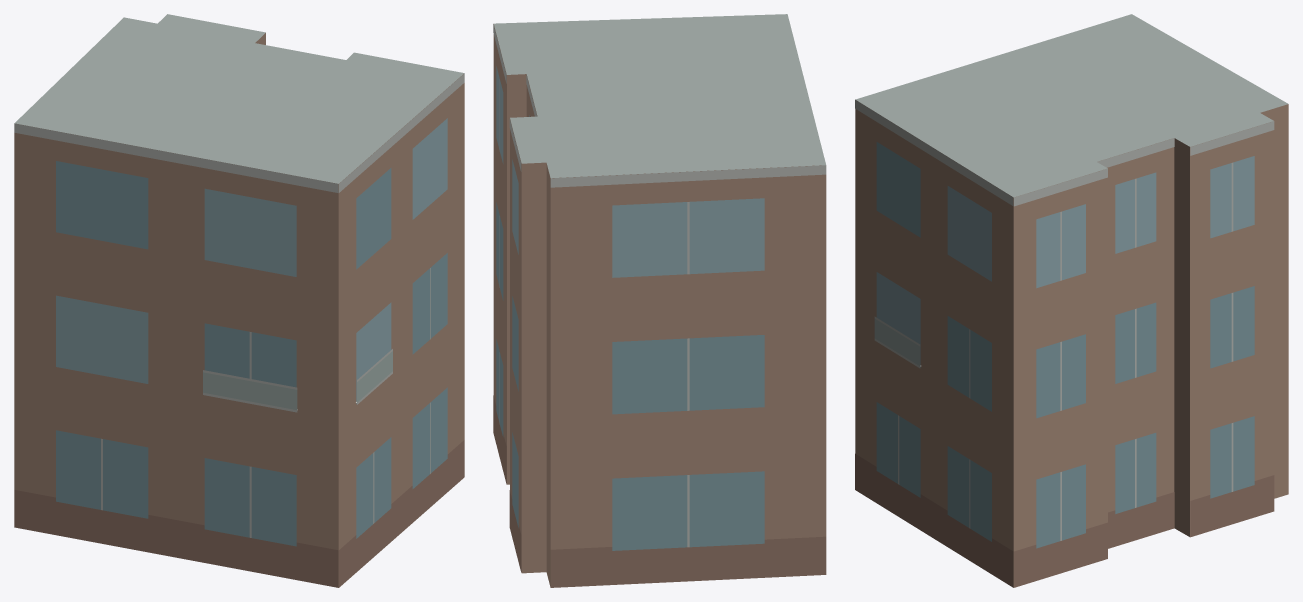
Rendered from survey-upis-32686062.glb.
3 renders of one model, left to right at view 1: azimuth 30°, elevation 25°; view 2: azimuth 150°, elevation 25°; view 3: azimuth 270°, elevation 25°, orthographic. The views are drawn at different scales.
Parts seen in each view (by area): view 1: survey-upis-32686062.tmp; view 2: survey-upis-32686062.tmp; view 3: survey-upis-32686062.tmp.
Part boxes in pixels (box(x1,y1,x2,y2)): survey-upis-32686062.tmp: box(14, 14, 464, 587); survey-upis-32686062.tmp: box(493, 14, 826, 587); survey-upis-32686062.tmp: box(855, 14, 1288, 587).
Bounding box in the file's own units: 10.6 × 10.51 × 10.59.
